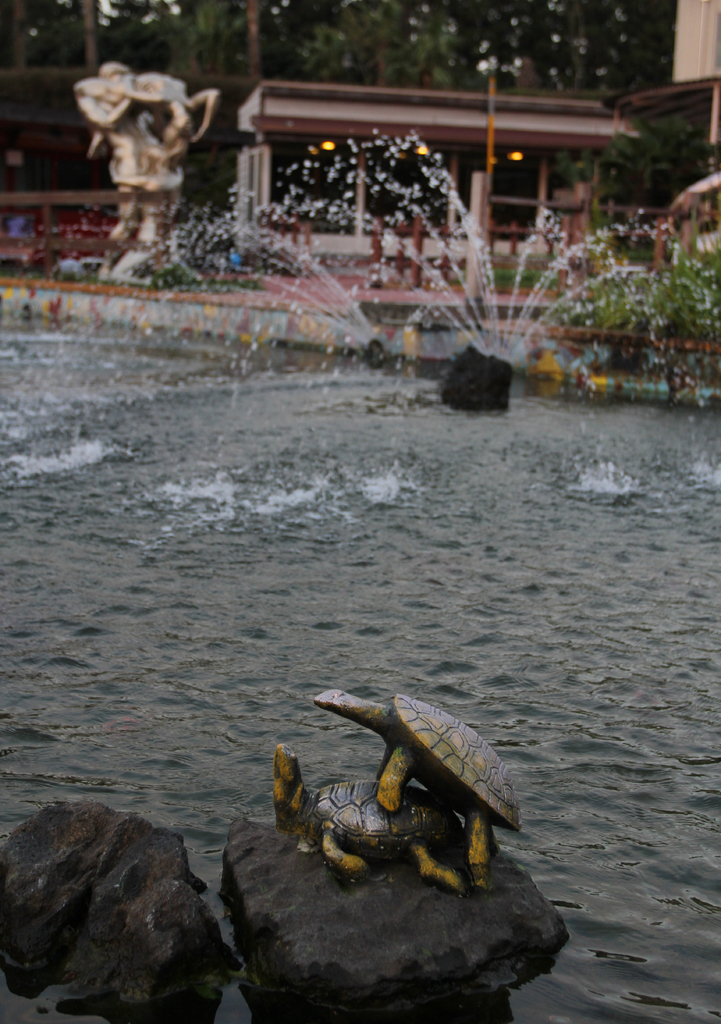Sea turtles: (309, 684, 524, 888), (270, 742, 468, 890)
